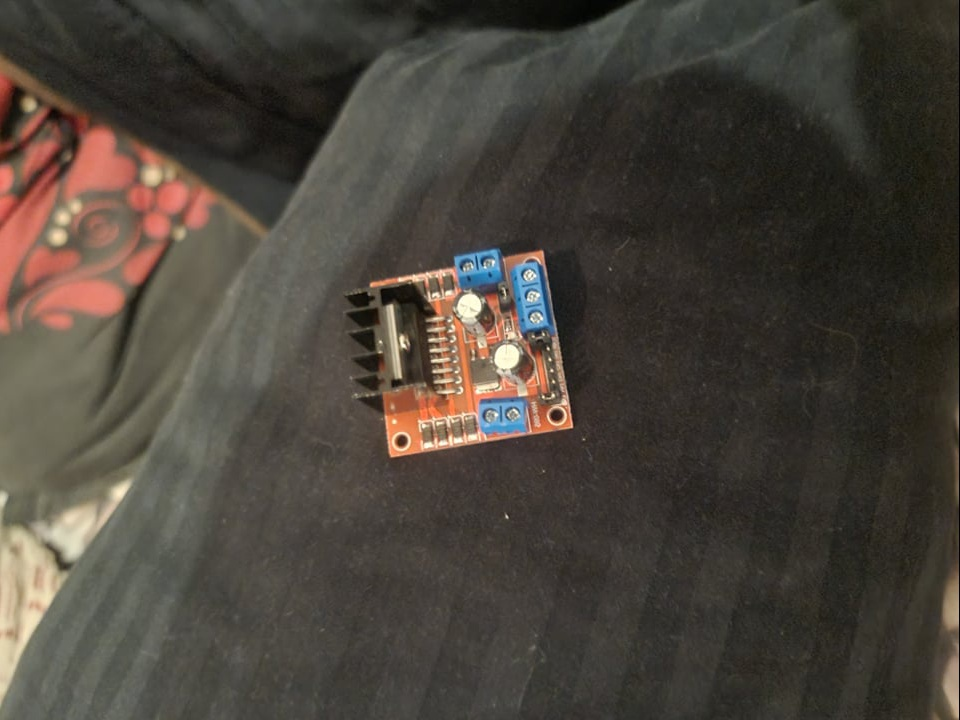MOTOR: (341, 246, 580, 459)
